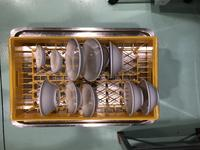Dish: (81, 38, 105, 82), (65, 38, 85, 81), (40, 78, 61, 117), (138, 79, 159, 116), (123, 79, 143, 116), (80, 83, 97, 118), (108, 41, 123, 79), (65, 81, 82, 114), (51, 49, 62, 73), (36, 45, 46, 68), (102, 46, 110, 69)
